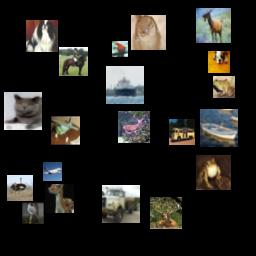airplane: (51, 116, 80, 145), (43, 162, 62, 181)
bird: (131, 15, 166, 50), (7, 175, 33, 201), (22, 202, 44, 224), (112, 41, 128, 57)
cat: (4, 92, 42, 130)
deer: (196, 8, 231, 43), (150, 197, 182, 229), (118, 111, 150, 143), (45, 184, 74, 213)
dog: (26, 20, 58, 52), (208, 51, 230, 73)
frog: (196, 155, 231, 190), (213, 76, 235, 98)
ship: (200, 109, 238, 147), (106, 66, 144, 104)
truck: (102, 185, 140, 223), (169, 119, 195, 145)
